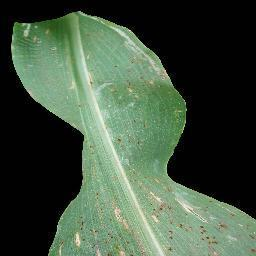Corn_Common_Rust: (46, 176, 256, 256), (115, 28, 172, 93), (79, 9, 126, 29), (111, 129, 144, 152), (13, 22, 45, 43), (83, 130, 97, 157), (88, 64, 99, 88), (69, 73, 78, 91)
